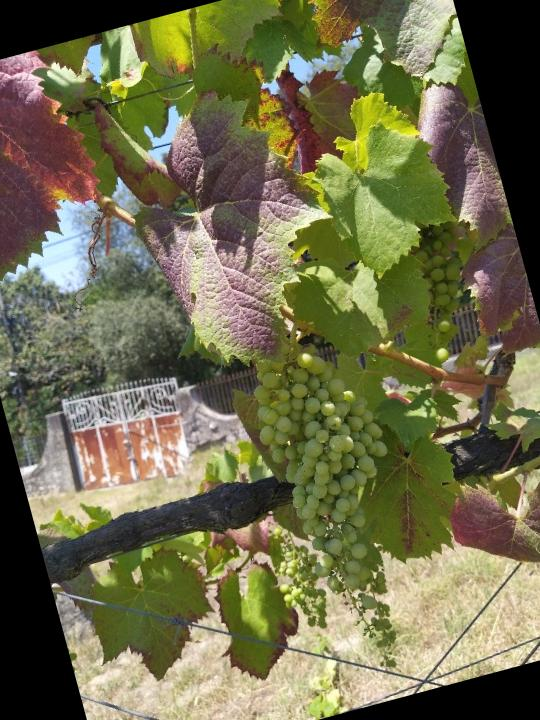grape: (238, 319, 448, 692), (256, 517, 346, 643)
